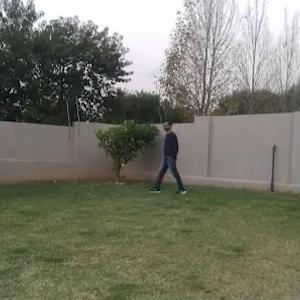follow: (160, 112, 181, 197)
